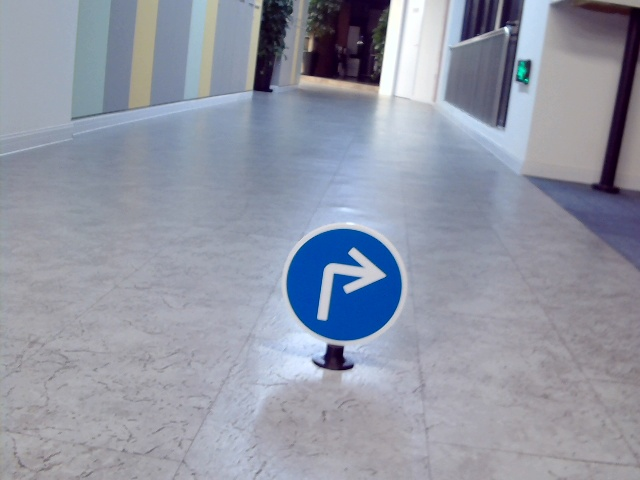turn_right: (312, 244, 386, 324)
